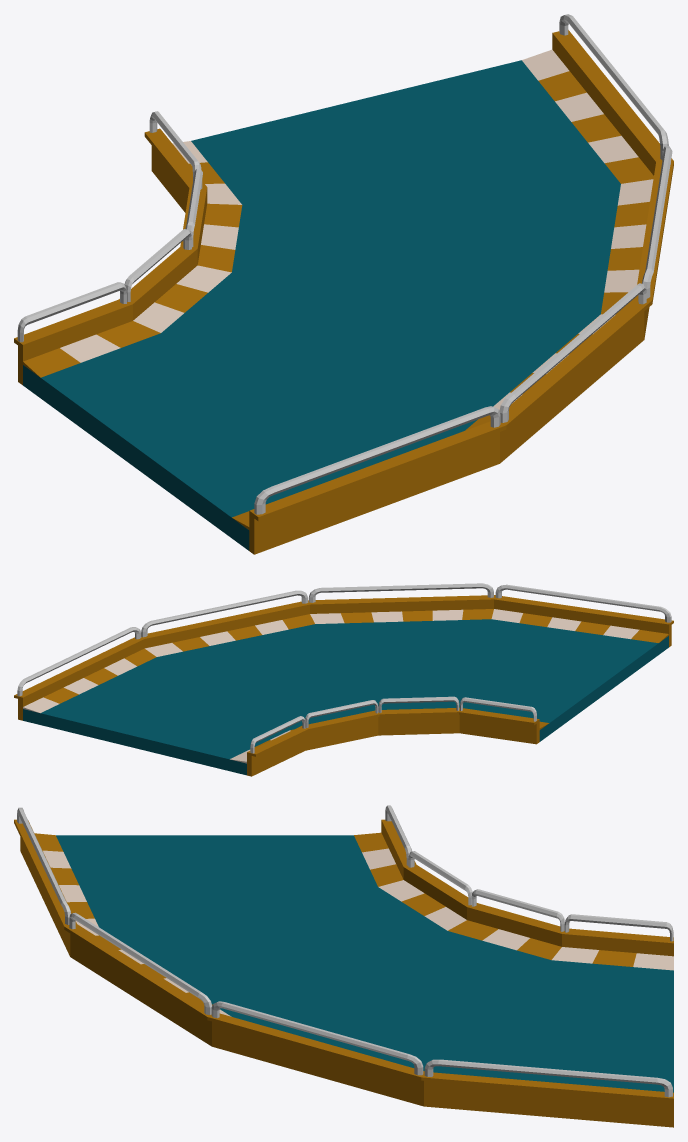
File: curveRight-90_m.FBX
3 views of the same model, one above another, from view 1: azimuth 30°, elevation 25°; view 2: azimuth 150°, elevation 25°; view 3: azimuth 270°, elevation 25° (orthographic). The views are drawn at different scales.
Parts seen in each view (by area): view 1: curveRight-90_m, wall_l, wall_r, curbs_l, curbs_r; view 2: curveRight-90_m, wall_l, wall_r, curbs_l; view 3: curveRight-90_m, wall_l, wall_r, curbs_r, curbs_l.
Part boxes in pixels (left/top/right/bottom): curveRight-90_m: left=23, top=60, right=620, bottom=550; wall_l: left=249, top=14, right=673, bottom=554; wall_r: left=14, top=111, right=207, bottom=385; curbs_l: left=232, top=49, right=653, bottom=529; curbs_r: left=23, top=141, right=242, bottom=377; curveRight-90_m: left=23, top=619, right=668, bottom=775; wall_l: left=14, top=583, right=673, bottom=720; wall_r: left=247, top=696, right=539, bottom=776; curbs_l: left=23, top=609, right=668, bottom=713; curveRight-90_m: left=56, top=835, right=673, bottom=1092; wall_l: left=14, top=807, right=673, bottom=1127; wall_r: left=381, top=805, right=673, bottom=956; curbs_r: left=354, top=832, right=673, bottom=970; curbs_l: left=34, top=833, right=231, bottom=1016.
Size of what is drawn, in the model's own units: 358 by 29.31 by 358.
